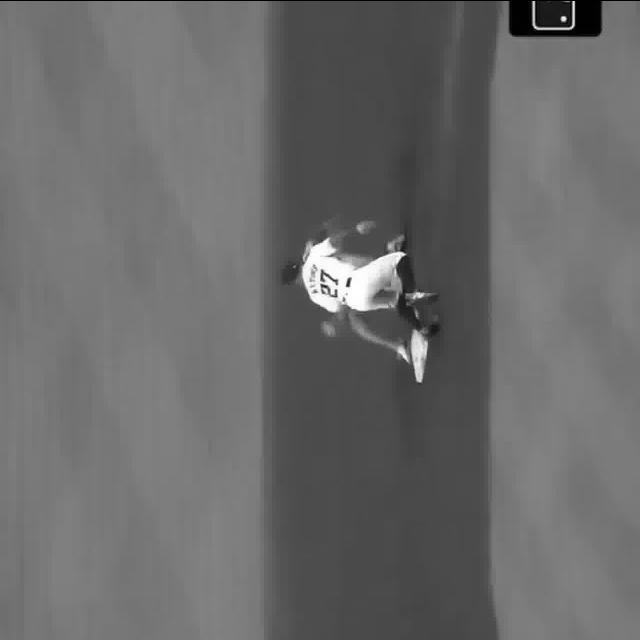base: (408, 325, 431, 381)
shoe: (408, 285, 442, 304), (422, 313, 446, 335)
